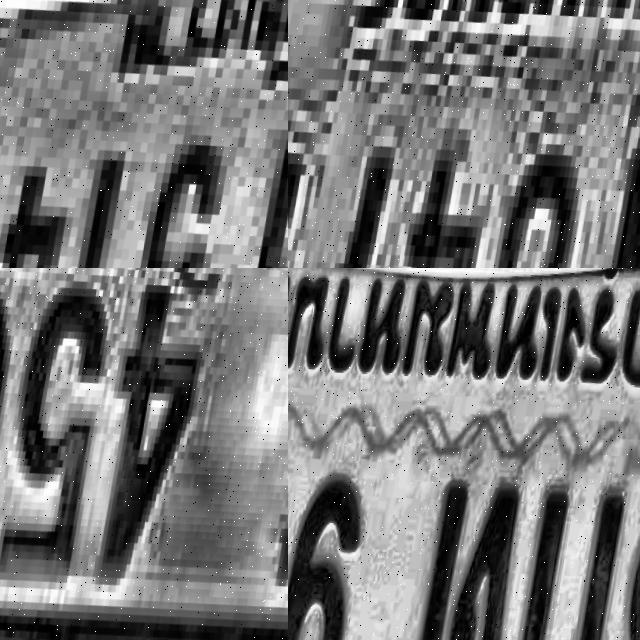license-plate: (288, 268, 640, 640), (0, 268, 288, 640), (288, 0, 640, 268), (0, 0, 288, 268)
